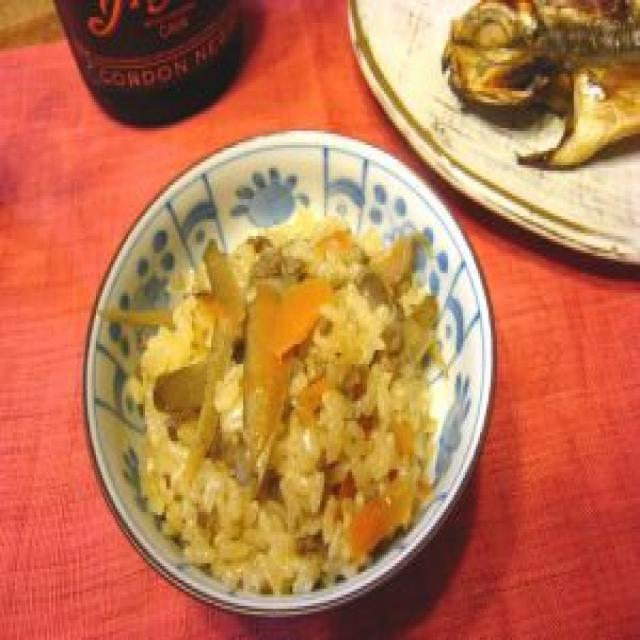米饭主食: (72, 136, 493, 628)
